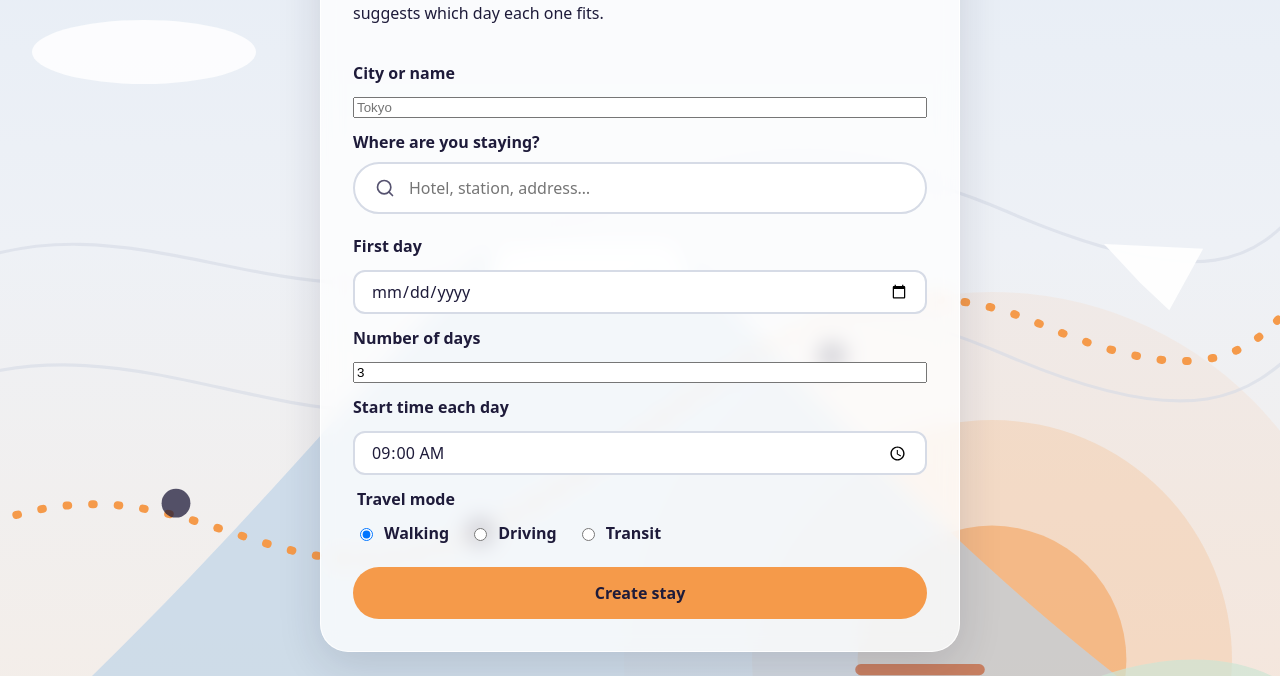
NewStayPage › says what is missing instead of sending
(page scrolled)
Click the button "Create stay" at x=640, y=593, box [353, 567, 927, 619]
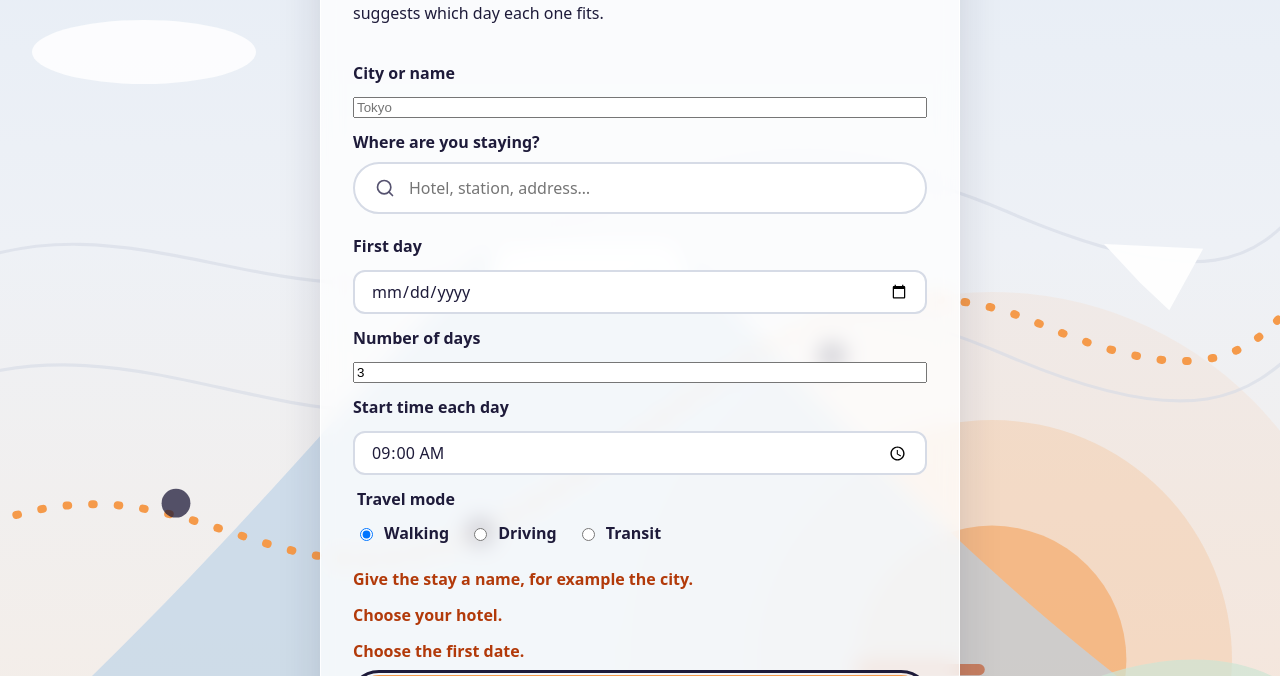
expect the text "Give the stay a name, for example the city." is shown: met, box [353, 568, 693, 590]
expect the text "Choose your hotel." is shown: met, box [353, 604, 502, 626]
